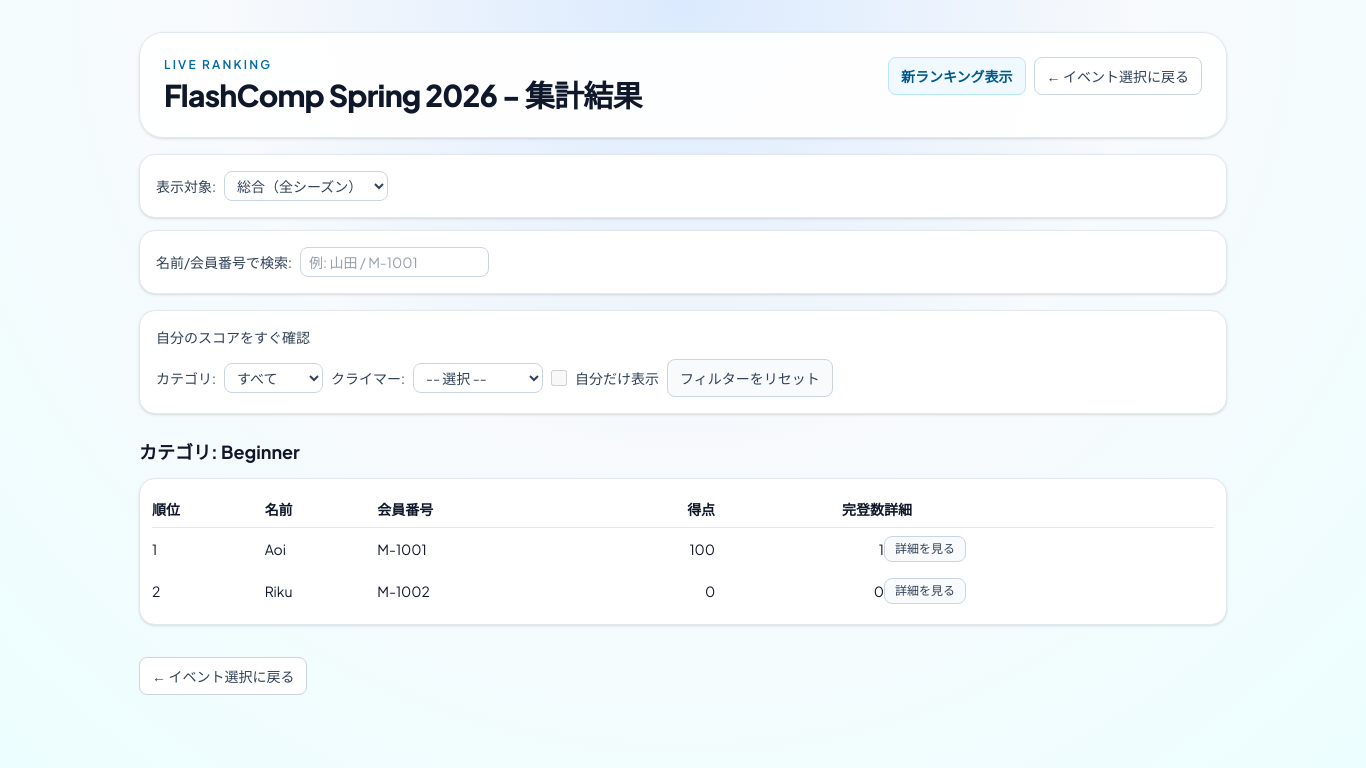
Test: EventSummary › filters rows by keyword in ranking mode
This screenshot has width=1366, height=768.
Expected: the heading "FlashComp Spring 2026 - 集計結果" is shown, [164,77,642,113]
Type "M-1002" into the field with placeholder "例: 山田 / M-1001".
click(394, 262); type("M-1002")  # box [300,247,489,277]
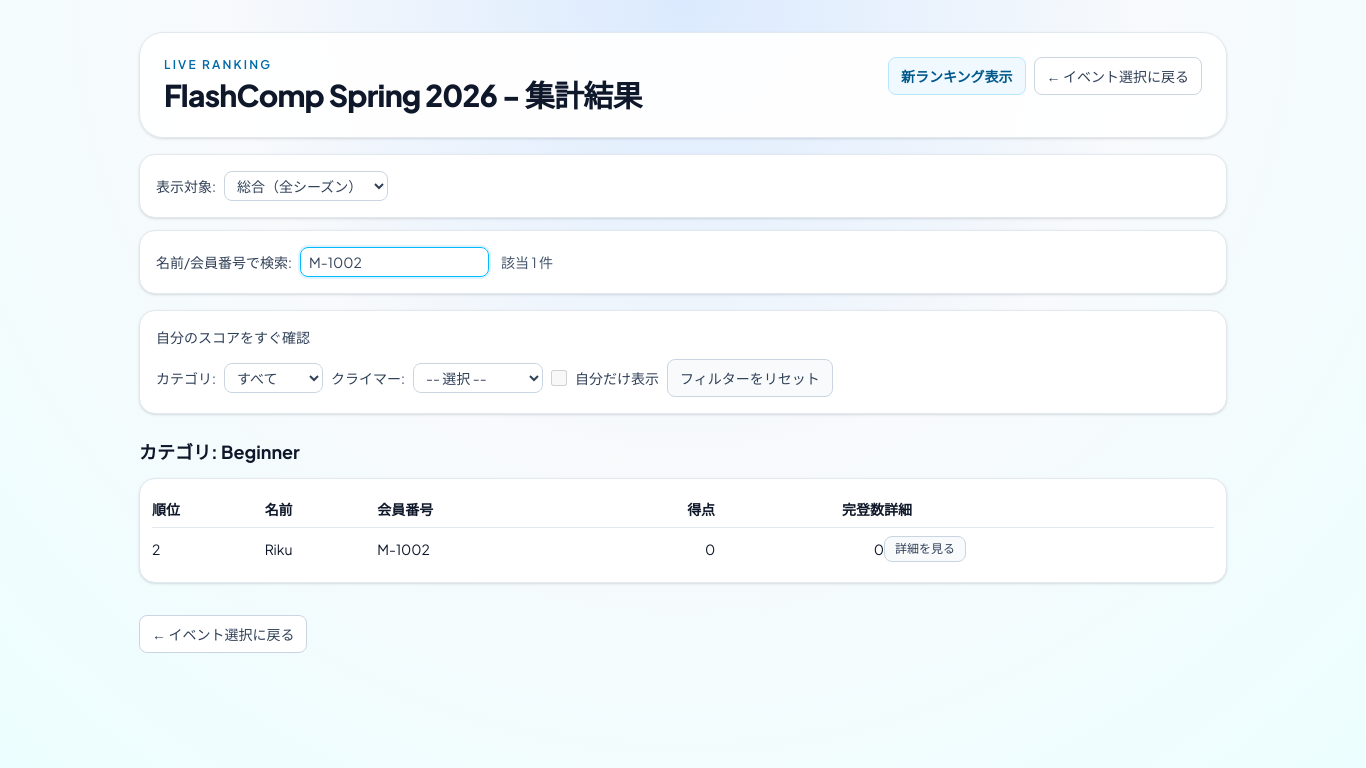
Expected: the text "Riku" is shown, [265,528,377,570]
Result: the text "該当 1 件" is shown at [501,253,553,271]
Result: the text "Aoi" is gone
